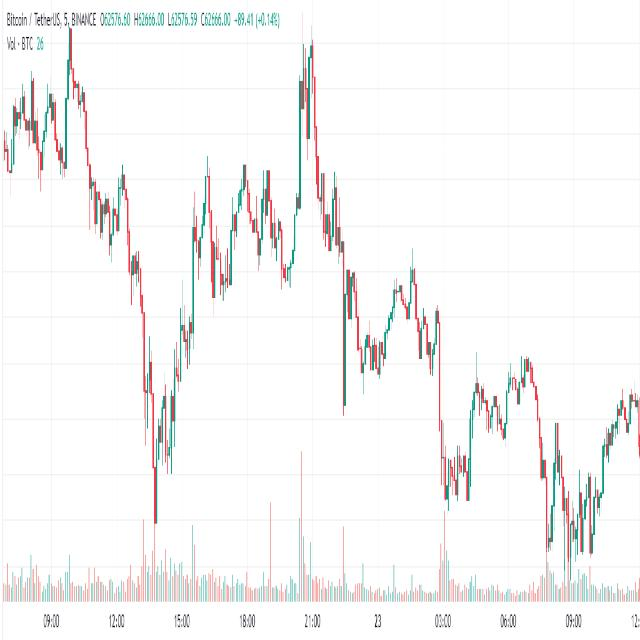Double-Top: (292, 16, 324, 160)
Head-Shoulders: (189, 140, 225, 338)
Inverse-Head-Shoulders: (140, 243, 183, 540)
